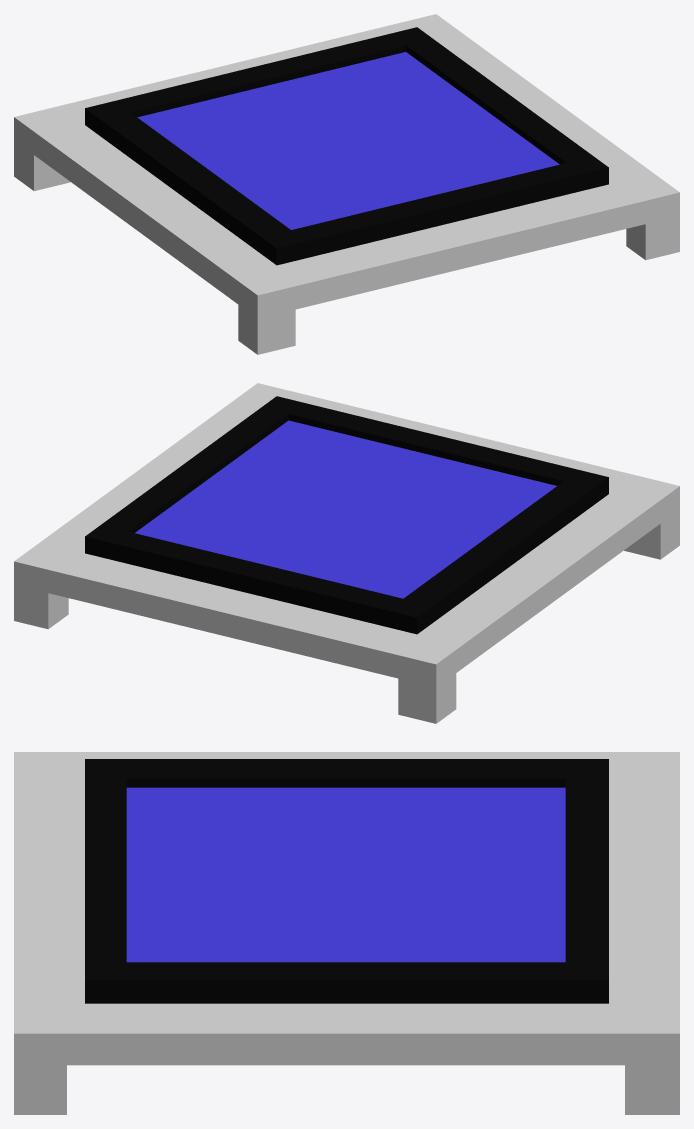
Rendered from JumpingPad.fbx.
3 renders of one model, top to bottom at view 1: azimuth 30°, elevation 25°; view 2: azimuth 150°, elevation 25°; view 3: azimuth 270°, elevation 25°, orthographic. The views are drawn at different scales.
Parts seen in each view (by area): view 1: Cube; view 2: Cube; view 3: Cube.
Boxes of the visible parts, left/top/right/bottom form: Cube: left=14, top=14, right=679, bottom=354; Cube: left=14, top=383, right=679, bottom=723; Cube: left=14, top=752, right=679, bottom=1114.
Size of the model in its own units: 100 by 17.29 by 100.
